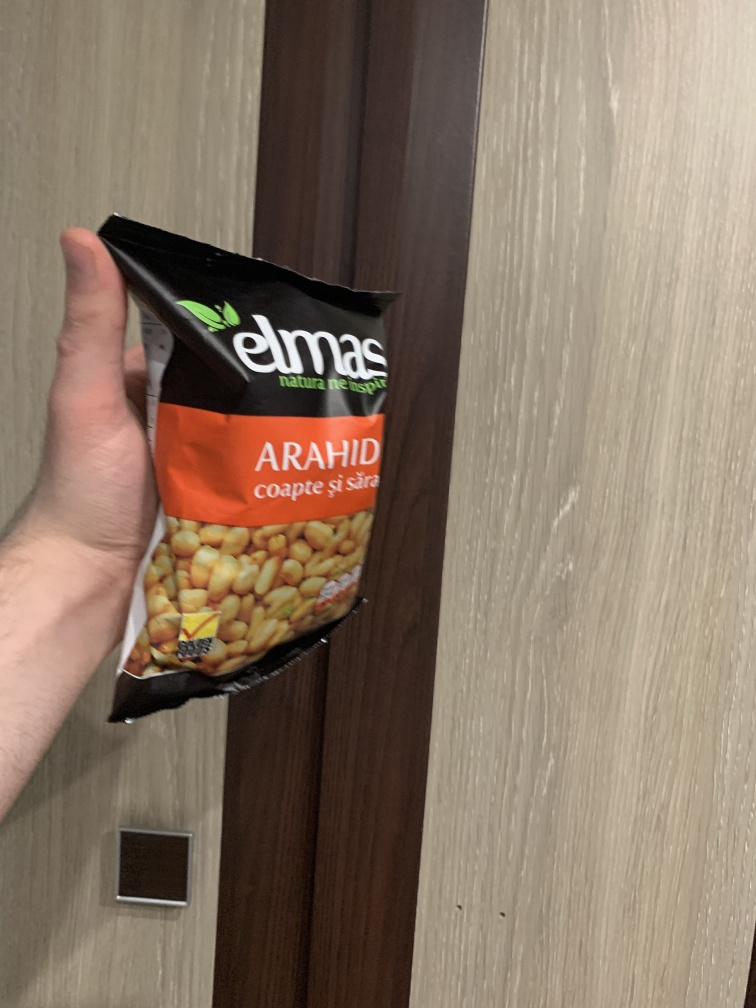peanuts: (102, 203, 412, 768)
